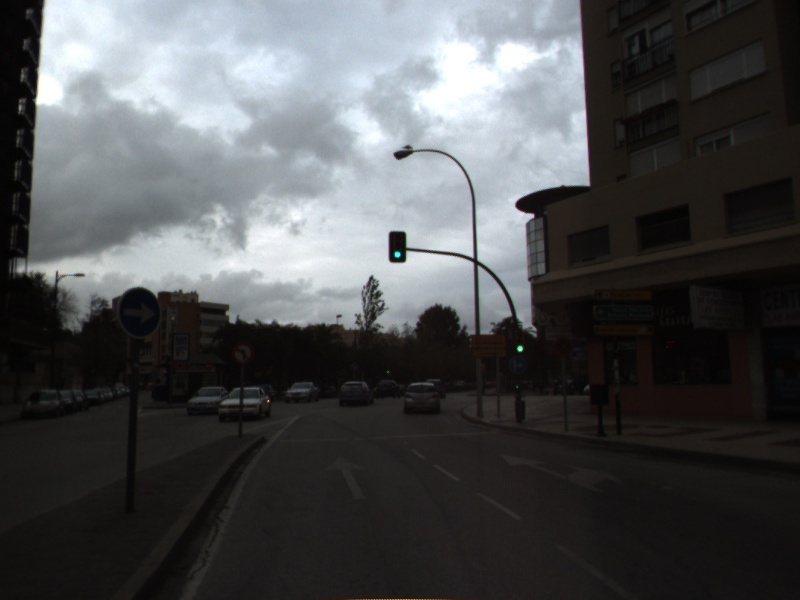STRAIGHT: (323, 454, 369, 502)
STRAIGHT_RIGHT: (496, 449, 626, 495)
